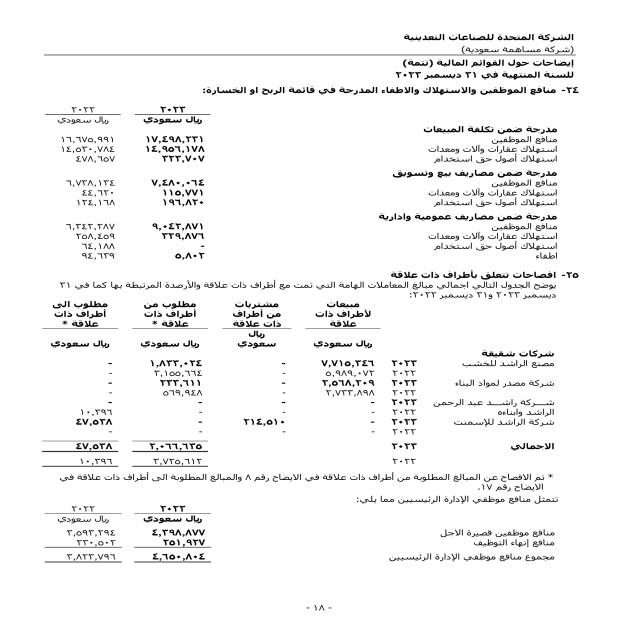notes: (386, 57, 579, 69)
table: (31, 296, 431, 471), (28, 98, 212, 268), (25, 490, 240, 567)
